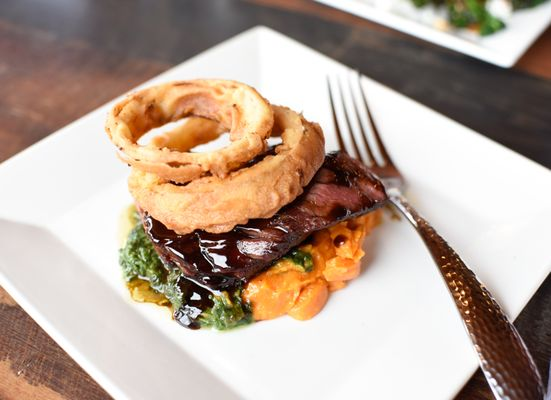sandwich: (324, 67, 547, 397)
soup: (108, 77, 390, 330)
